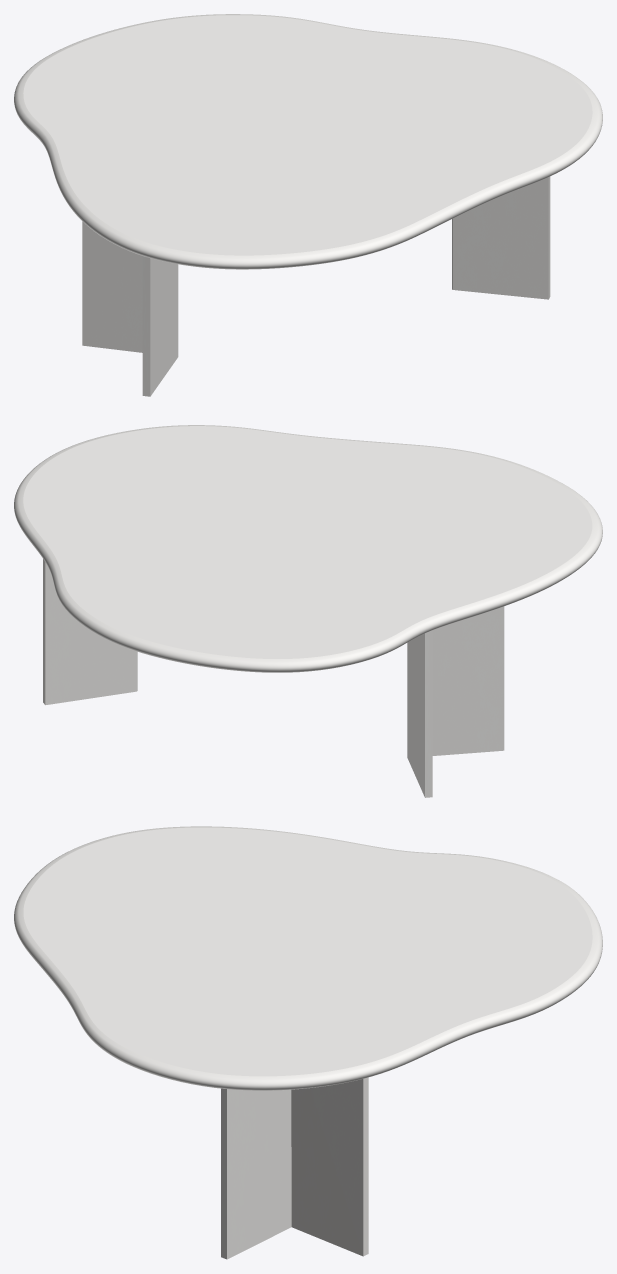
File: purewhite_topone_round_valleyv.glb
3 views of the same model, one above another, from view 1: azimuth 30°, elevation 25°; view 2: azimuth 150°, elevation 25°; view 3: azimuth 270°, elevation 25° (orthographic). The views are drawn at different scales.
Visible parts, largest first — view 1: round_topone, valleyv; view 2: round_topone, valleyv; view 3: round_topone, valleyv.
Boxes of the visible parts, x1,y1,x2,y2 form: round_topone: (14, 14, 602, 269); valleyv: (82, 176, 550, 396); round_topone: (14, 425, 602, 672); valleyv: (43, 559, 504, 797); round_topone: (14, 826, 602, 1090); valleyv: (221, 1077, 368, 1259).
Size of the model in its own units: 6.83 by 2.5 by 6.6.
Materials: 1 (1 with a texture image).
